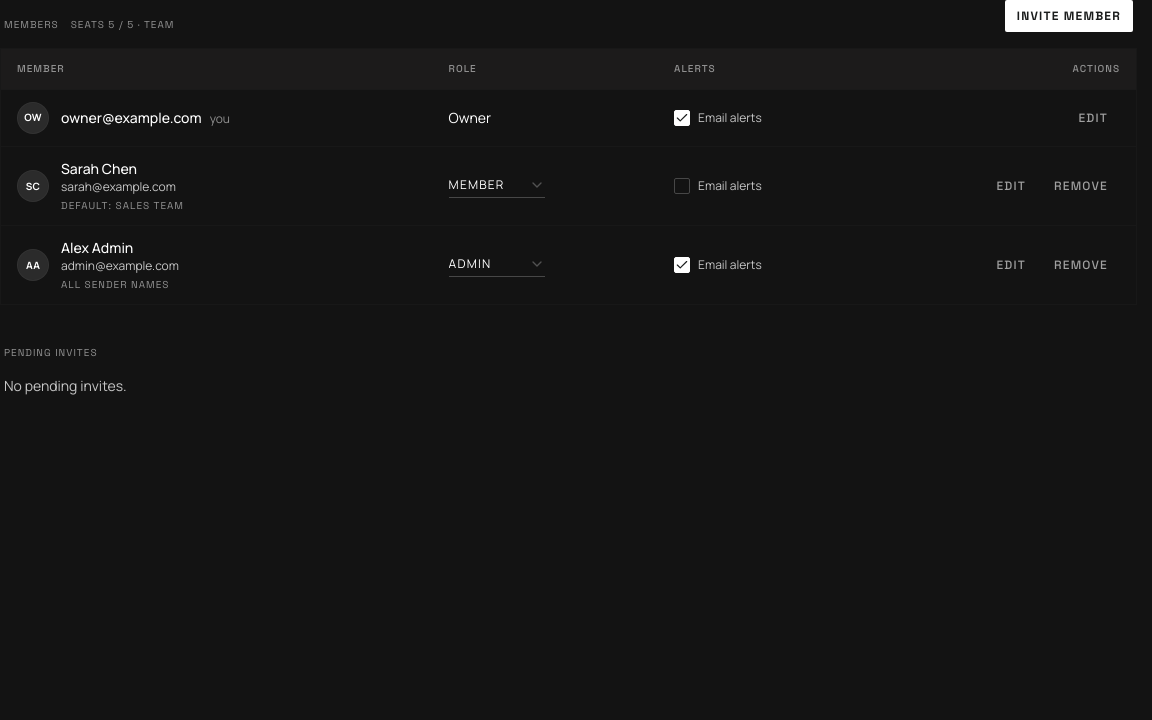
it: TeamPanel › does not show View plans when Team is at the seat cap
What coordinates should you click on to do the following:
click the button "Invite member"
I would click on:
 (1069, 16)
Its box is [1005,0,1133,32].
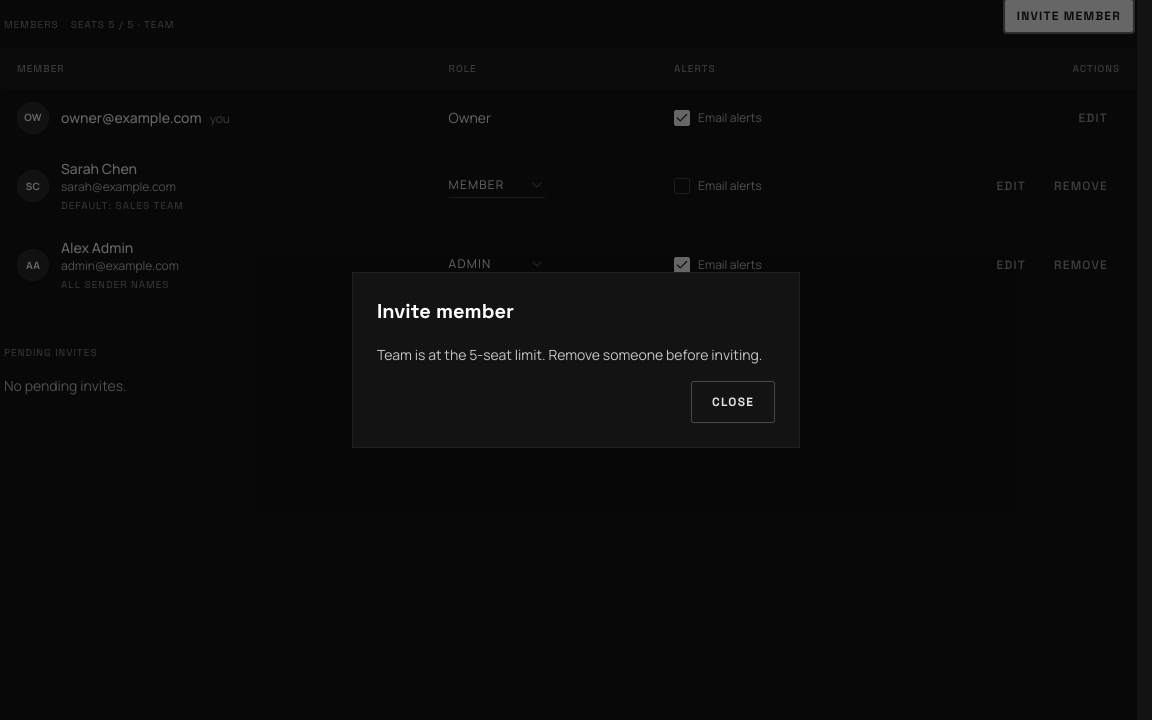
Result: the text "Team is at the 5-seat limit. Remove someone before inviting." is shown at [377,345,775,365]
